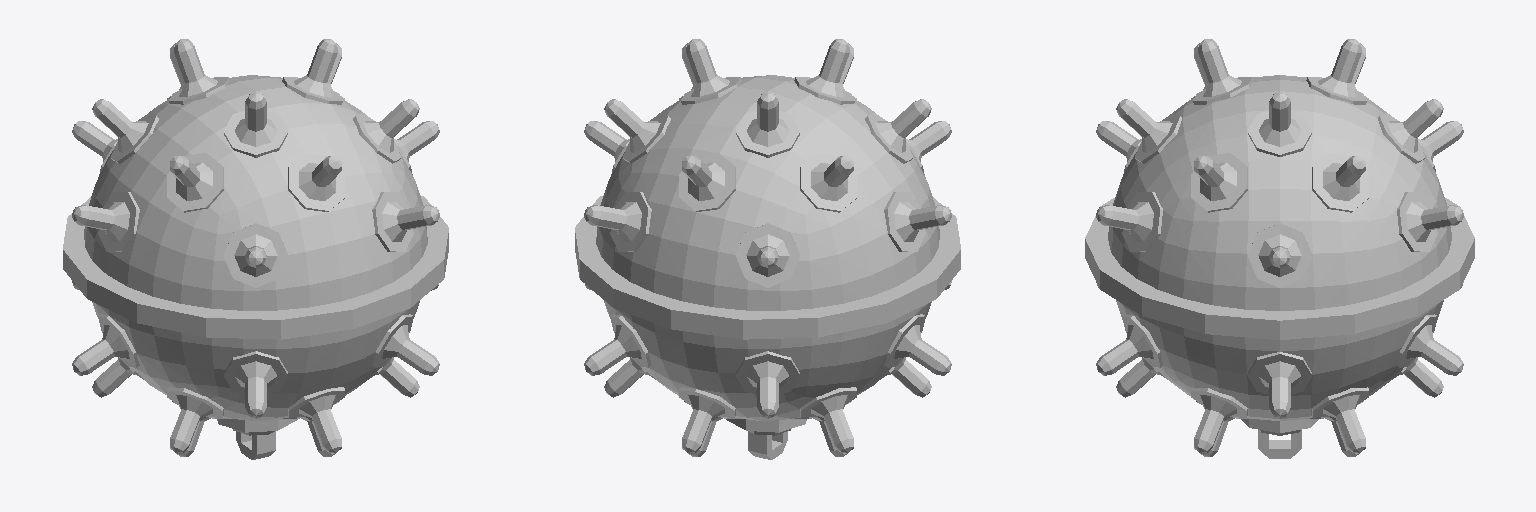
The model's file is mine_naval.obj.
3 renders of one model, left to right at view 1: azimuth 30°, elevation 25°; view 2: azimuth 150°, elevation 25°; view 3: azimuth 270°, elevation 25°, orthographic.
Visible parts, largest first — view 1: Cylinder; view 2: Cylinder; view 3: Cylinder.
Part boxes in pixels (x1,y1,x2,y2): Cylinder: (63,39,448,459); Cylinder: (575,39,960,459); Cylinder: (1085,39,1474,458).
Size of the model in its own units: 2.43 by 2.53 by 2.25.